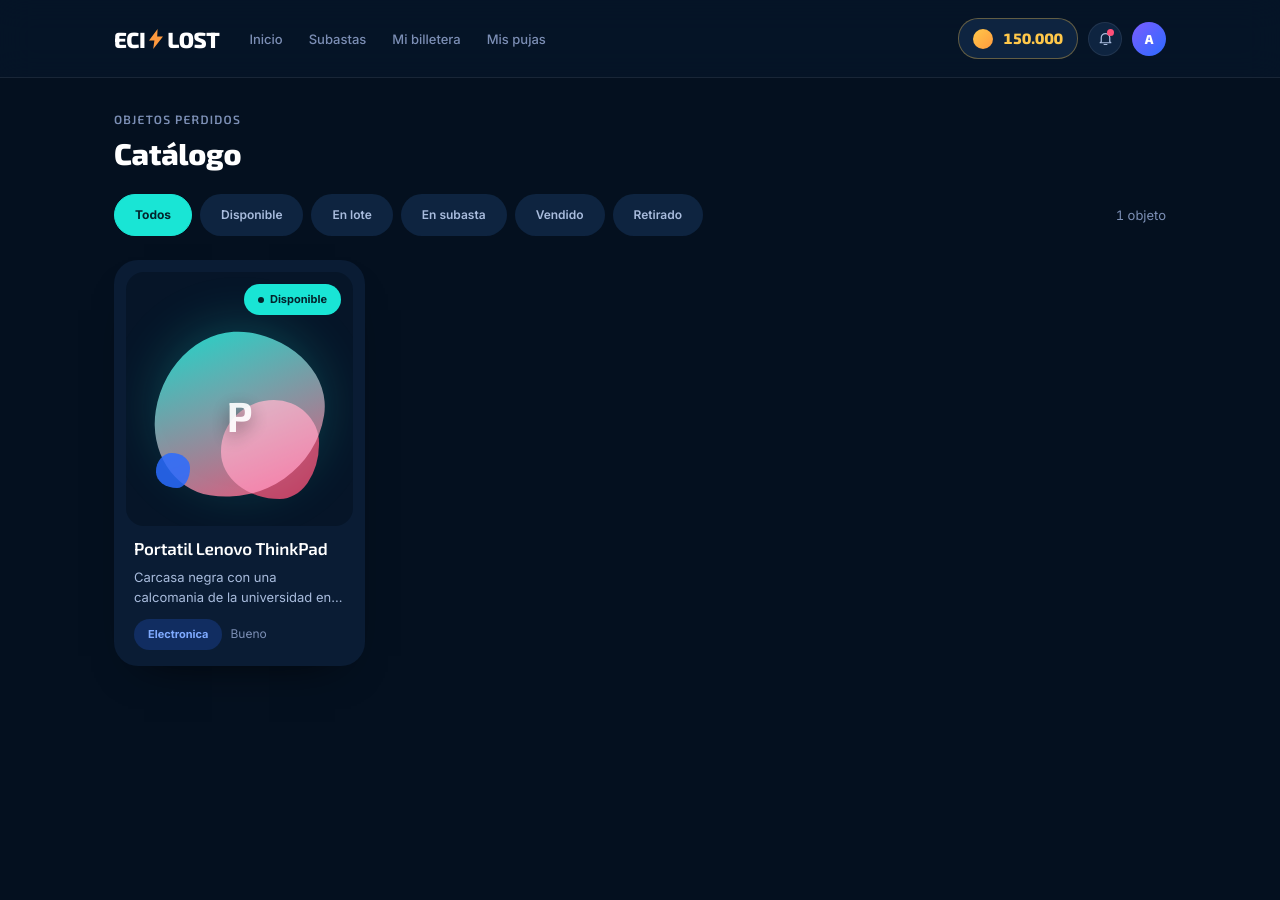
Scenario: Catalogo › cuando el vacio lo causa un filtro, lo dice y ofrece quitarlo
Expected: the heading "Portatil Lenovo ThinkPad" is shown, [134, 538, 345, 559]
Click the radio button labelled "Vendido".
click(560, 215)  # box [515, 194, 604, 236]
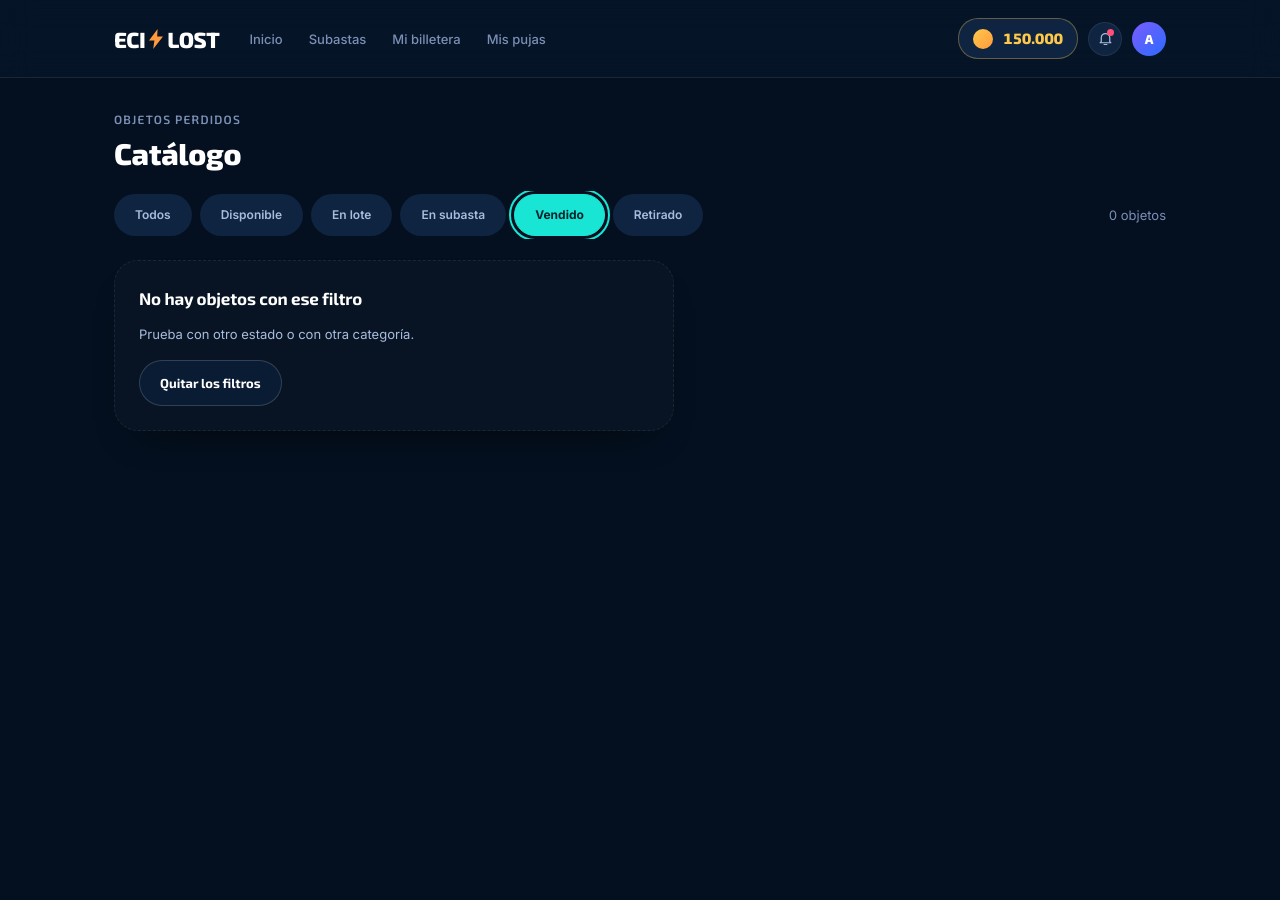
Now the text "No hay objetos con ese filtro" is shown, box [139, 285, 362, 312]
Click the button "Quitar los filtros".
click(210, 383)  # box [139, 360, 282, 406]
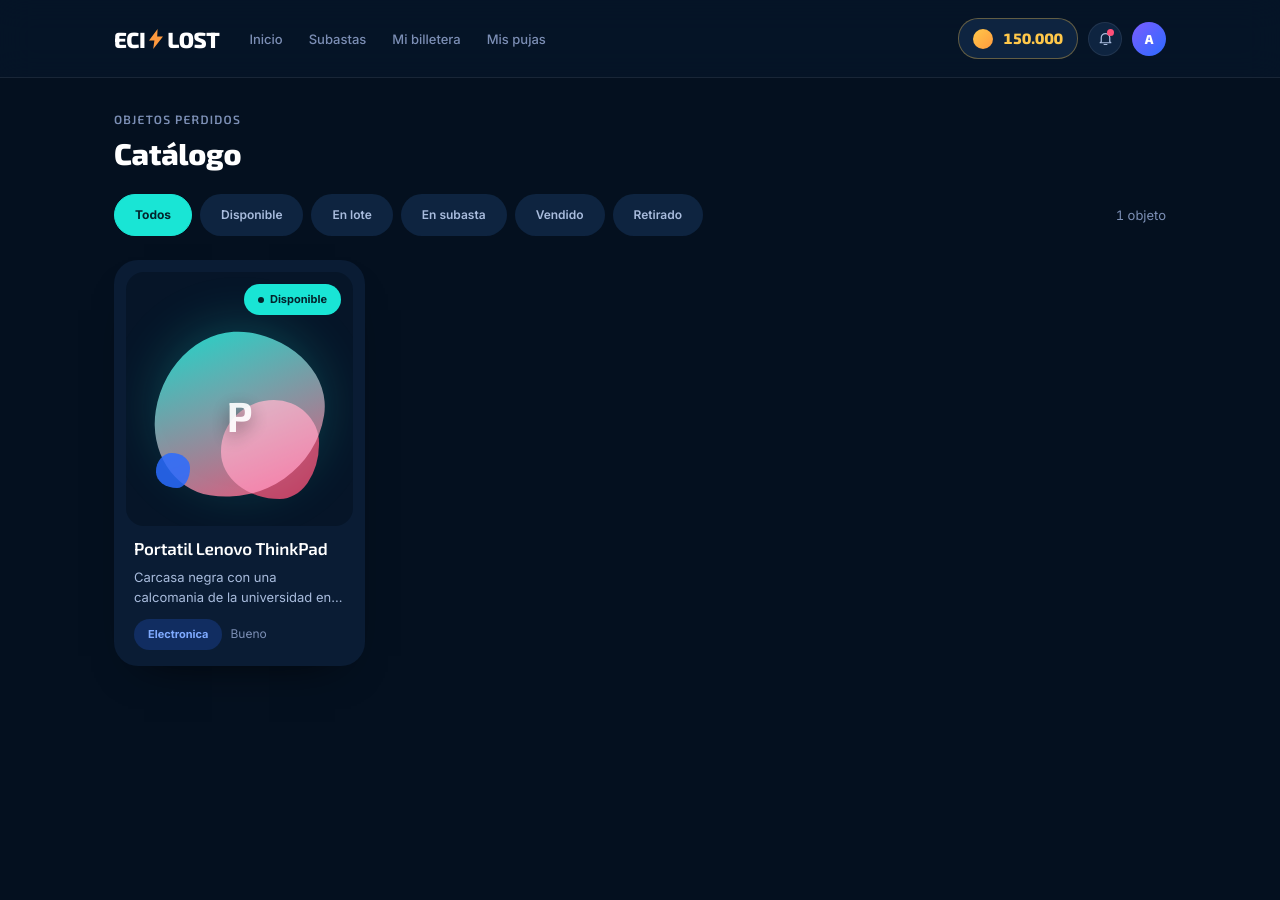
Now the heading "Portatil Lenovo ThinkPad" is shown, box [134, 538, 345, 559]
